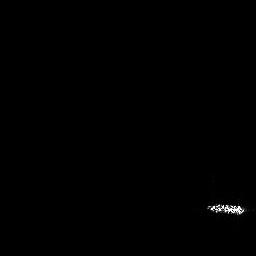ship: (205, 198, 250, 220)
